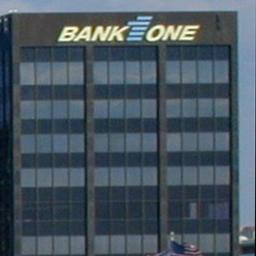building: (9, 12, 240, 256)
